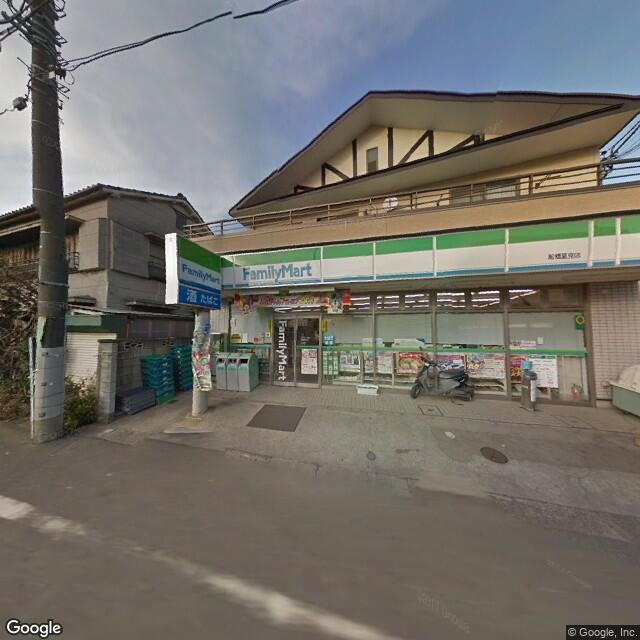family_mart: (220, 205, 639, 295), (170, 229, 222, 296), (237, 253, 314, 284), (179, 259, 219, 294), (272, 314, 289, 384)
